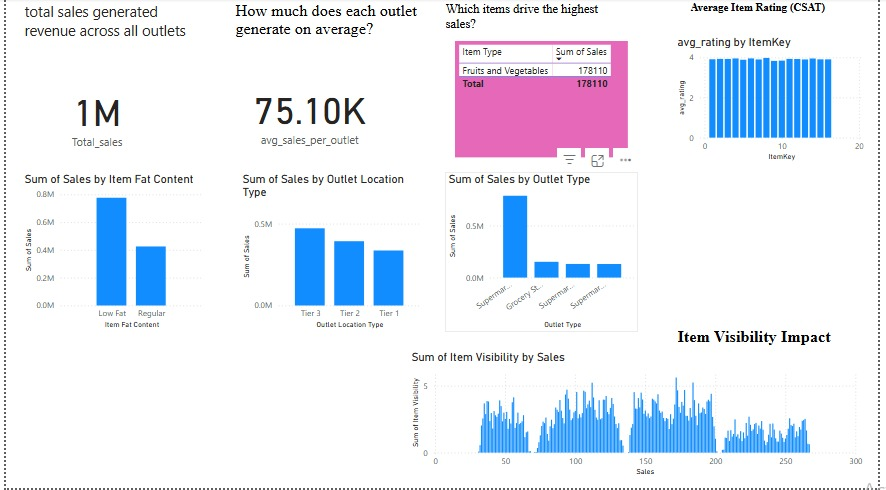

The dashboard page shown, as its layout file describes it:
{"tool":"powerbi","page":{"name":"Page 1","canvas":[1280,720],"ordinal":0},"visuals":[{"type":"card","fields":{"Values":["BlinkIT Grocery Data.Total_sales"]},"box":[21.8,63.8,223.4,218.4],"z":0},{"type":"textbox","box":[21.8,0,272.1,85.7],"z":1000},{"type":"textbox","box":[332.6,0,290.6,63.8],"z":2000},{"type":"card","fields":{"Values":["BlinkIT Grocery Data.avg_sales_per_outlet"]},"box":[349.4,85.7,193.2,169.7],"z":3000},{"type":"tableEx","fields":{"Values":["Items.Item Type","Sum(BlinkIT Grocery Data.Sales)"]},"box":[660.2,63.8,253.6,171.3],"z":4000},{"type":"textbox","box":[640,0,273.8,53.8],"z":5000},{"type":"columnChart","fields":{"Category":["Items.ItemKey"],"Y":["BlinkIT Grocery Data.avg_rating"]},"box":[981,53.8,283.9,189.8],"z":6000},{"type":"textbox","box":[22,313,223,218],"z":7000},{"type":"textbox","box":[1001.2,0,263.7,42],"z":8000},{"type":"clusteredColumnChart","fields":{"Y":["Sum(BlinkIT Grocery Data.Sales)"],"Category":["Item nutrition.Item Fat Content"]},"box":[21.8,255.3,272.1,235.2],"z":9000},{"type":"clusteredColumnChart","fields":{"Y":["Sum(sales table.Sales)"],"Category":["Outlet Location.Outlet Location Type"]},"box":[342.7,255.3,272.1,235.2],"z":10000},{"type":"clusteredColumnChart","fields":{"Y":["Sum(BlinkIT Grocery Data.Sales)"],"Category":["Outlet details.Outlet Type"]},"box":[645,255.3,283.9,235.2],"z":11000},{"type":"clusteredColumnChart","fields":{"Y":["Sum(BlinkIT Grocery Data.Item Visibility)"],"Category":["BlinkIT Grocery Data.Sales"]},"box":[591.3,517.4,673.6,189.8],"z":12000},{"type":"textbox","box":[981,478.7,283.9,52.1],"z":13000}]}

Visuals, with their boxes in screenshot pixels (x1, y1, x2, y2), scaled from the page's 1280x720 canvas onto the 886x490 screenshot:
card - BlinkIT Grocery Data.Total_sales: Rect(15, 43, 170, 192)
textbox: Rect(15, 0, 203, 58)
textbox: Rect(230, 0, 431, 43)
card - BlinkIT Grocery Data.avg_sales_per_outlet: Rect(242, 58, 376, 174)
tableEx - Items.Item Type x Sum(BlinkIT Grocery Data.Sales): Rect(457, 43, 633, 160)
textbox: Rect(443, 0, 633, 37)
columnChart - Items.ItemKey x BlinkIT Grocery Data.avg_rating: Rect(679, 37, 876, 166)
textbox: Rect(15, 213, 170, 361)
textbox: Rect(693, 0, 876, 29)
clusteredColumnChart - Sum(BlinkIT Grocery Data.Sales) x Item nutrition.Item Fat Content: Rect(15, 174, 203, 334)
clusteredColumnChart - Sum(sales table.Sales) x Outlet Location.Outlet Location Type: Rect(237, 174, 426, 334)
clusteredColumnChart - Sum(BlinkIT Grocery Data.Sales) x Outlet details.Outlet Type: Rect(446, 174, 643, 334)
clusteredColumnChart - Sum(BlinkIT Grocery Data.Item Visibility) x BlinkIT Grocery Data.Sales: Rect(409, 352, 876, 481)
textbox: Rect(679, 326, 876, 361)
